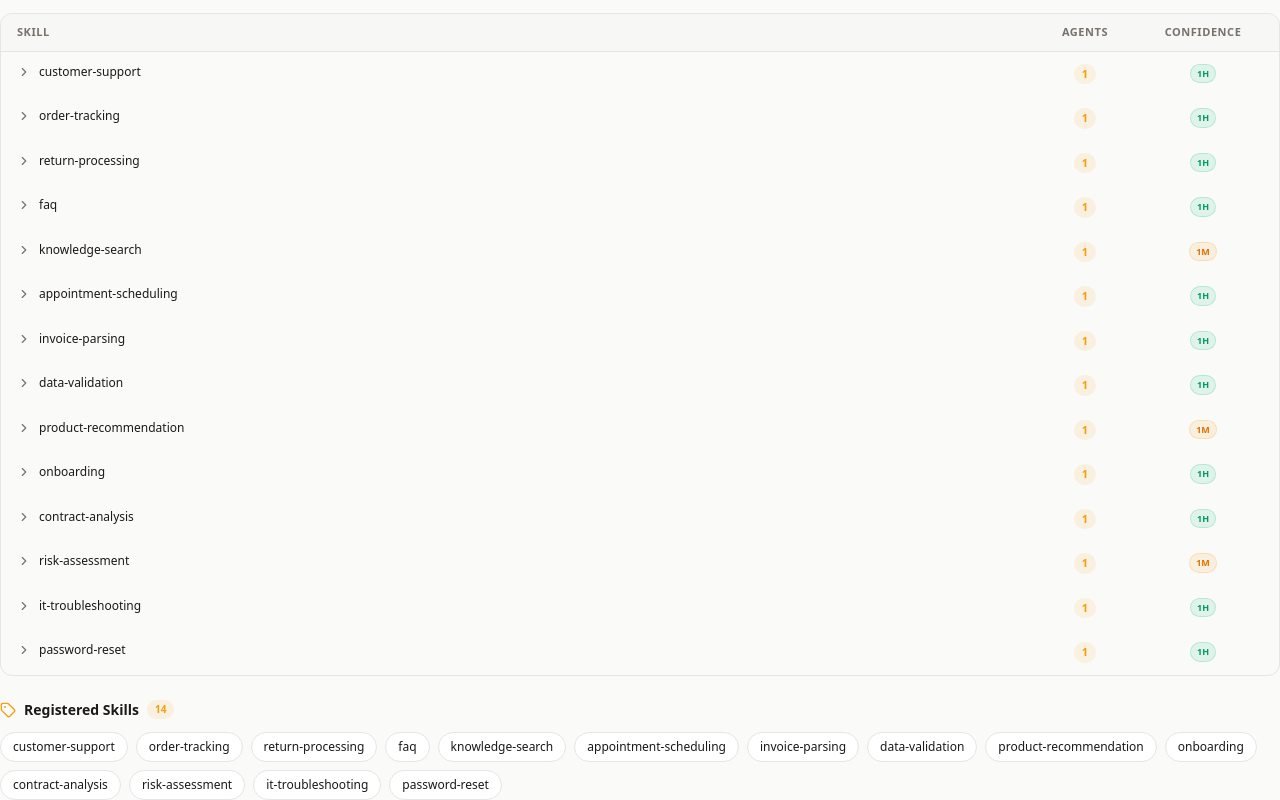
CapabilitiesPage › shows matching agents when a skill pill is clicked
(page scrolled)
Click the button with test id "skill-customer-support": {"x": 64, "y": 746} [0,732,128,762]
(page scrolled)
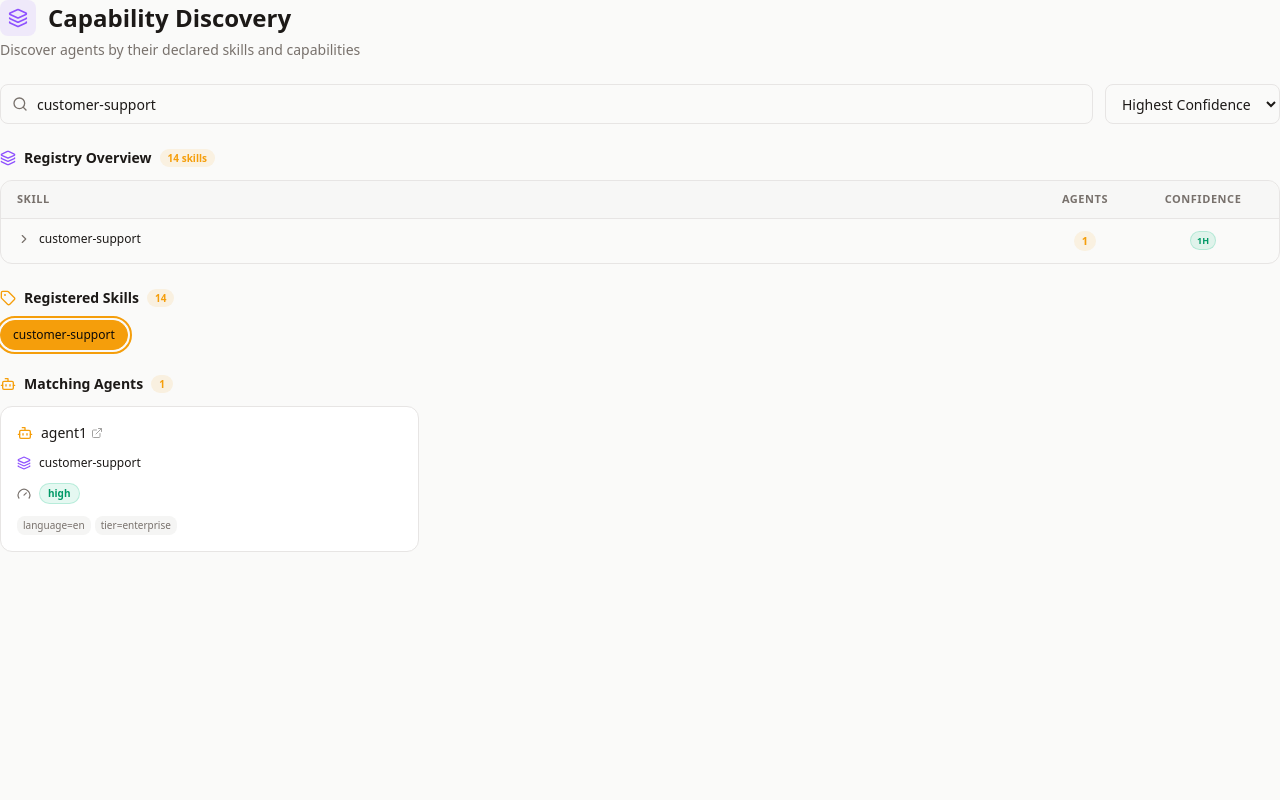
Expected: the element with test id "capability-results" is shown, [0,406,419,552]
Expected: the heading "Matching Agents 1" is shown, [0,374,173,393]
